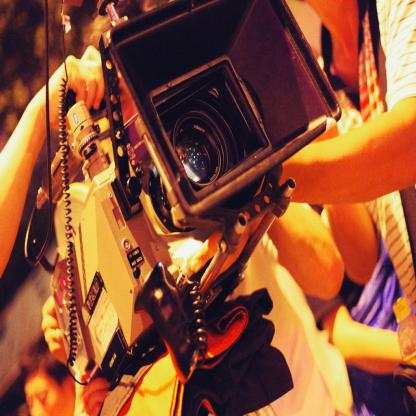Camera: (26, 37, 368, 383)
